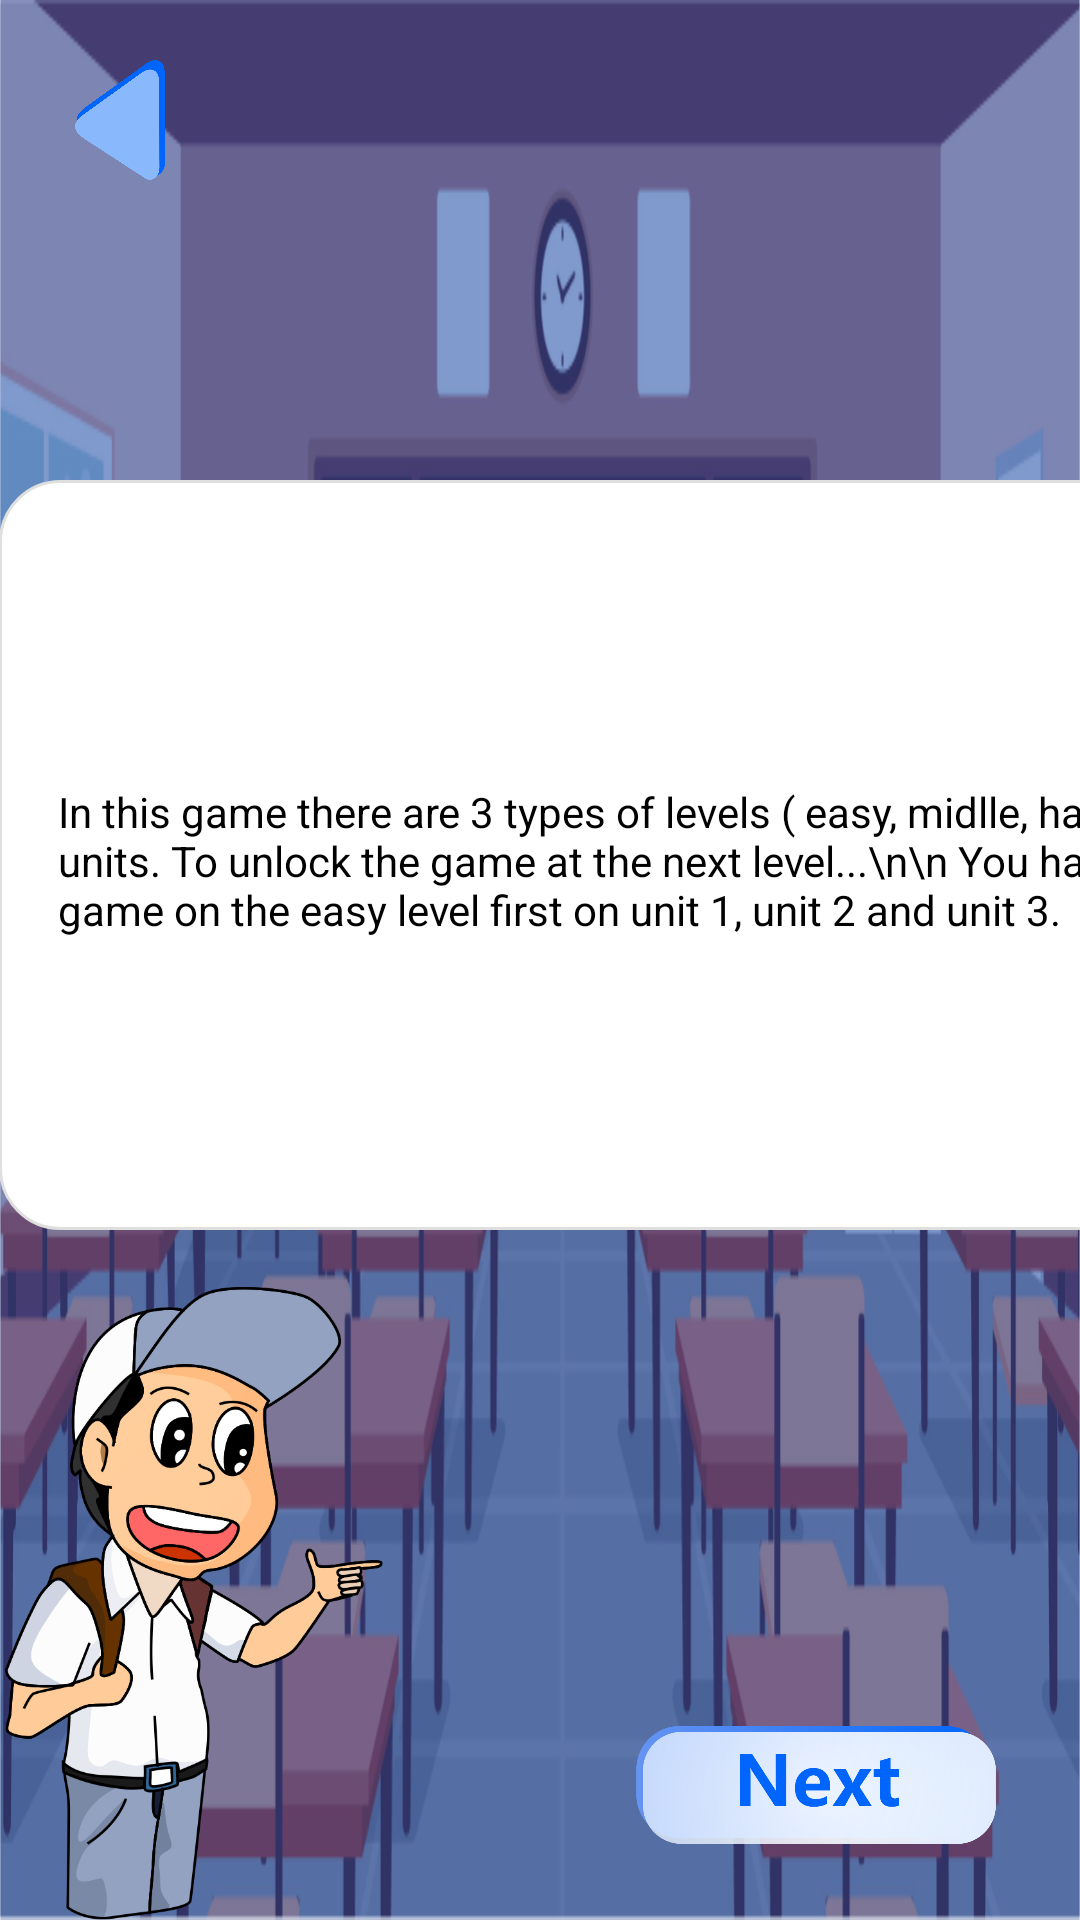

Icons on this 1080x1920 Android screen, each with the point to tap as [x,y]:
left arrow: [120,120]
